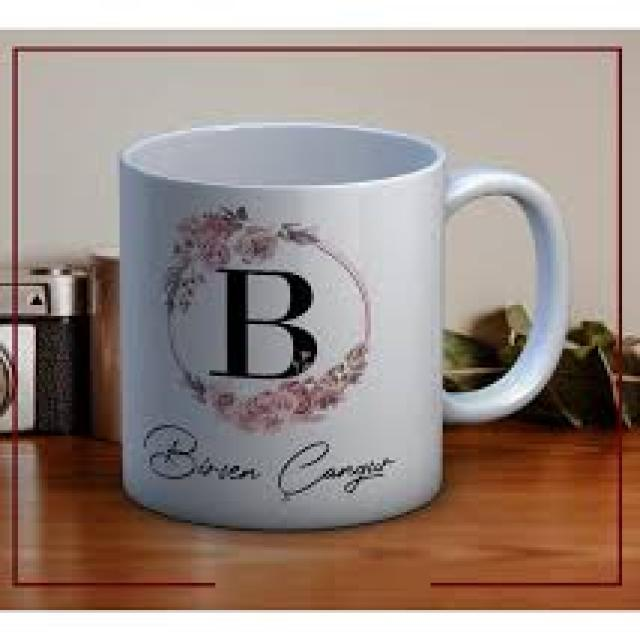taza: (116, 120, 572, 531)
